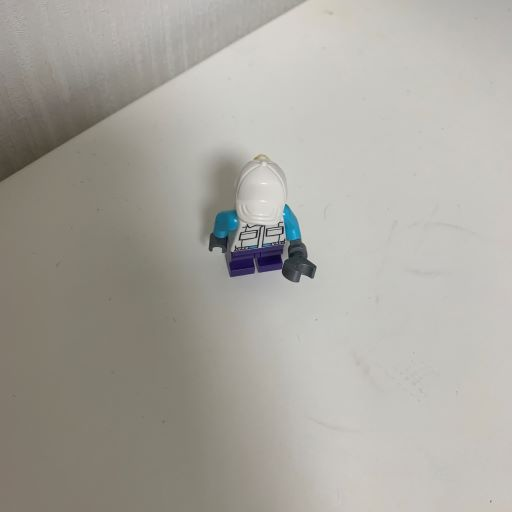human: (197, 146, 323, 292)
